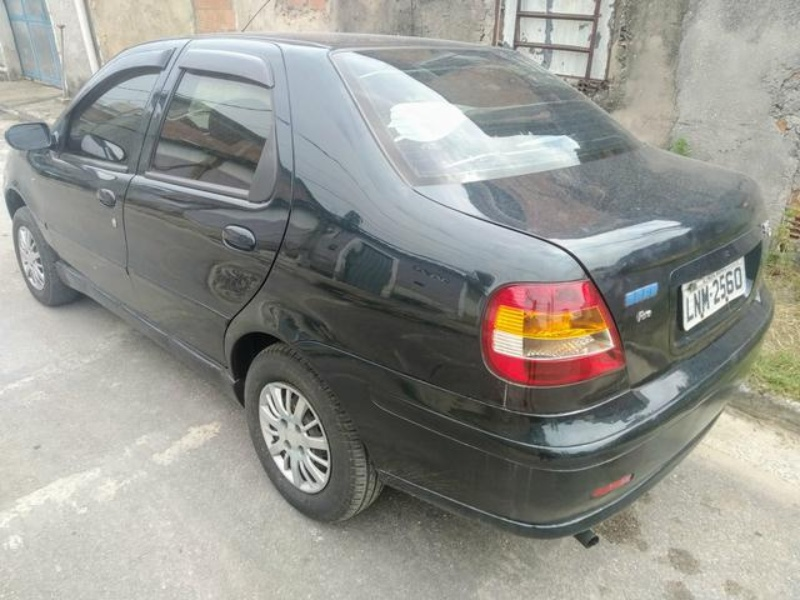ruim: (608, 298, 723, 463)
